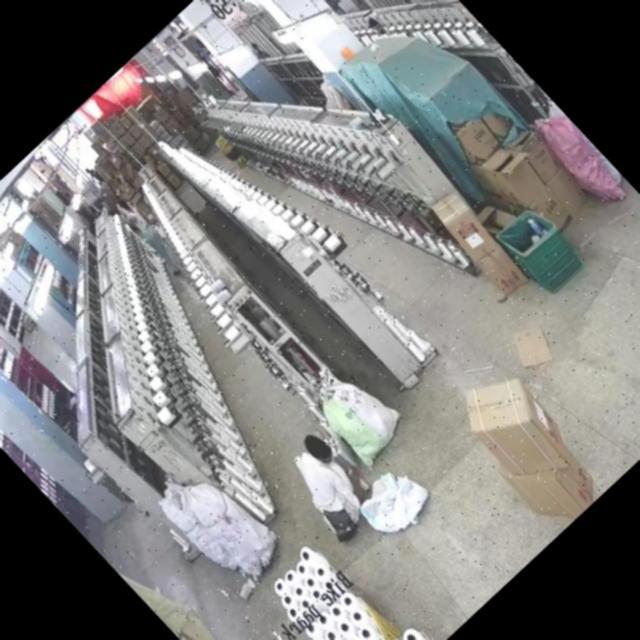person: (276, 432, 388, 548), (104, 184, 190, 273)
